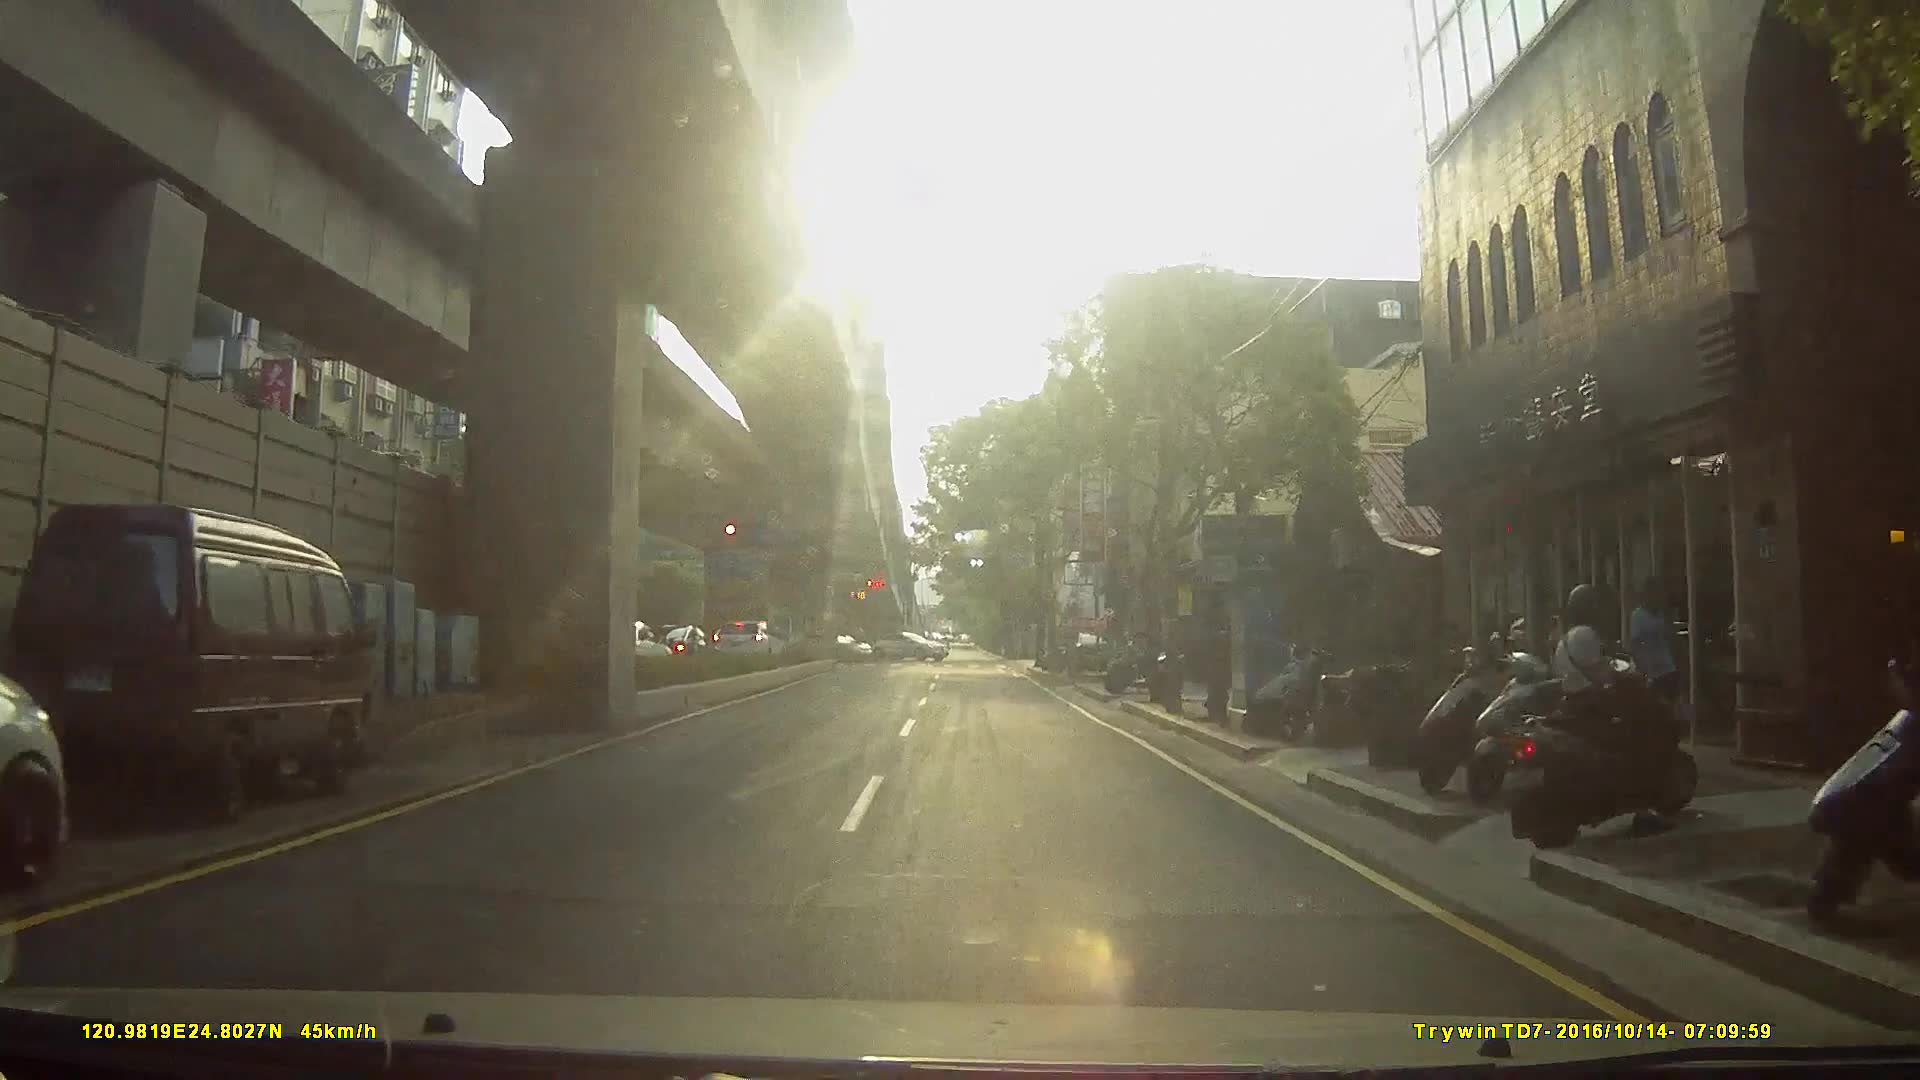pedestrian: (1624, 573, 1694, 770)
rider: (1515, 586, 1728, 844)
vehicle: (14, 491, 396, 836), (1, 644, 77, 876), (777, 627, 876, 665), (710, 616, 787, 662), (1065, 624, 1119, 673), (872, 629, 952, 659)
